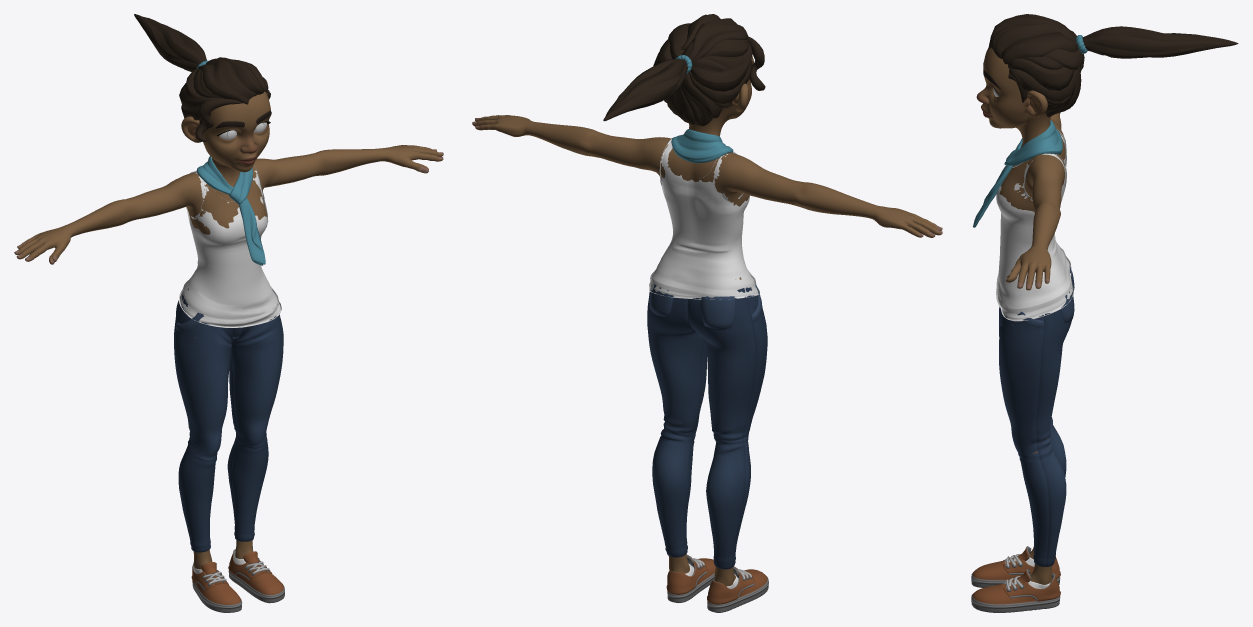
Rendered from Rain.glb.
3 views of the same model, side by side, from view 1: azimuth 30°, elevation 25°; view 2: azimuth 150°, elevation 25°; view 3: azimuth 270°, elevation 25° (orthographic). The views are drawn at different scales.
Visible parts, largest first — view 1: GEO-rain_jeans, GEO-rain_top, GEO-rain_body_nomask, GEO-rain_body, GEO-rain_head, GEO-rain_shoes, GEO-rain_hair_main, GEO-rain_scarf, GEO-rain_hair_ponytail, GEO-rain_hair_strand; view 2: GEO-rain_jeans, GEO-rain_top, GEO-rain_body_nomask, GEO-rain_hair_main, GEO-rain_body, GEO-rain_shoes, GEO-rain_hair_ponytail, GEO-rain_scarf, GEO-rain_head; view 3: GEO-rain_jeans, GEO-rain_hair_main, GEO-rain_top, GEO-rain_body_nomask, GEO-rain_shoes, GEO-rain_head, GEO-rain_hair_ponytail, GEO-rain_scarf, GEO-rain_body.
Part boxes in pixels (x1,y1,x2,y2): GEO-rain_jeans: [174, 292, 283, 552]; GEO-rain_top: [178, 165, 281, 327]; GEO-rain_body_nomask: [14, 145, 443, 569]; GEO-rain_body: [21, 147, 441, 560]; GEO-rain_head: [181, 91, 270, 184]; GEO-rain_shoes: [191, 549, 284, 612]; GEO-rain_hair_main: [179, 57, 270, 124]; GEO-rain_scarf: [196, 156, 265, 265]; GEO-rain_hair_ponytail: [134, 14, 206, 71]; GEO-rain_hair_strand: [195, 98, 242, 141]; GEO-rain_jeans: [647, 284, 767, 569]; GEO-rain_top: [649, 138, 759, 299]; GEO-rain_body_nomask: [472, 115, 942, 586]; GEO-rain_hair_main: [653, 14, 752, 126]; GEO-rain_body: [475, 115, 934, 571]; GEO-rain_shoes: [666, 554, 768, 612]; GEO-rain_hair_ponytail: [603, 59, 687, 121]; GEO-rain_scarf: [671, 129, 733, 163]; GEO-rain_head: [689, 55, 753, 136]; GEO-rain_jeans: [999, 266, 1074, 566]; GEO-rain_hair_main: [988, 14, 1084, 117]; GEO-rain_top: [996, 128, 1073, 321]; GEO-rain_body_nomask: [999, 112, 1065, 584]; GEO-rain_shoes: [971, 546, 1060, 612]; GEO-rain_head: [976, 48, 1050, 146]; GEO-rain_hair_ponytail: [1082, 26, 1238, 58]; GEO-rain_scarf: [973, 120, 1062, 227]; GEO-rain_body: [1007, 114, 1065, 277].
Bounding box in the file's own units: 1.4 × 1.65 × 0.6957.
